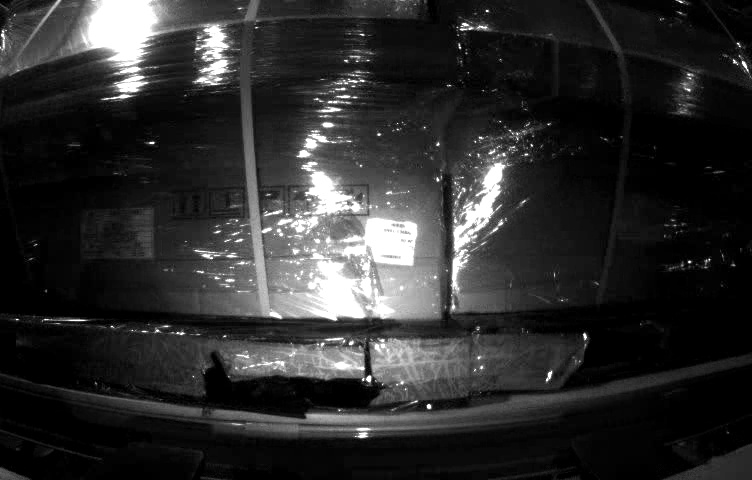True Barcode: (362, 216, 422, 267)
